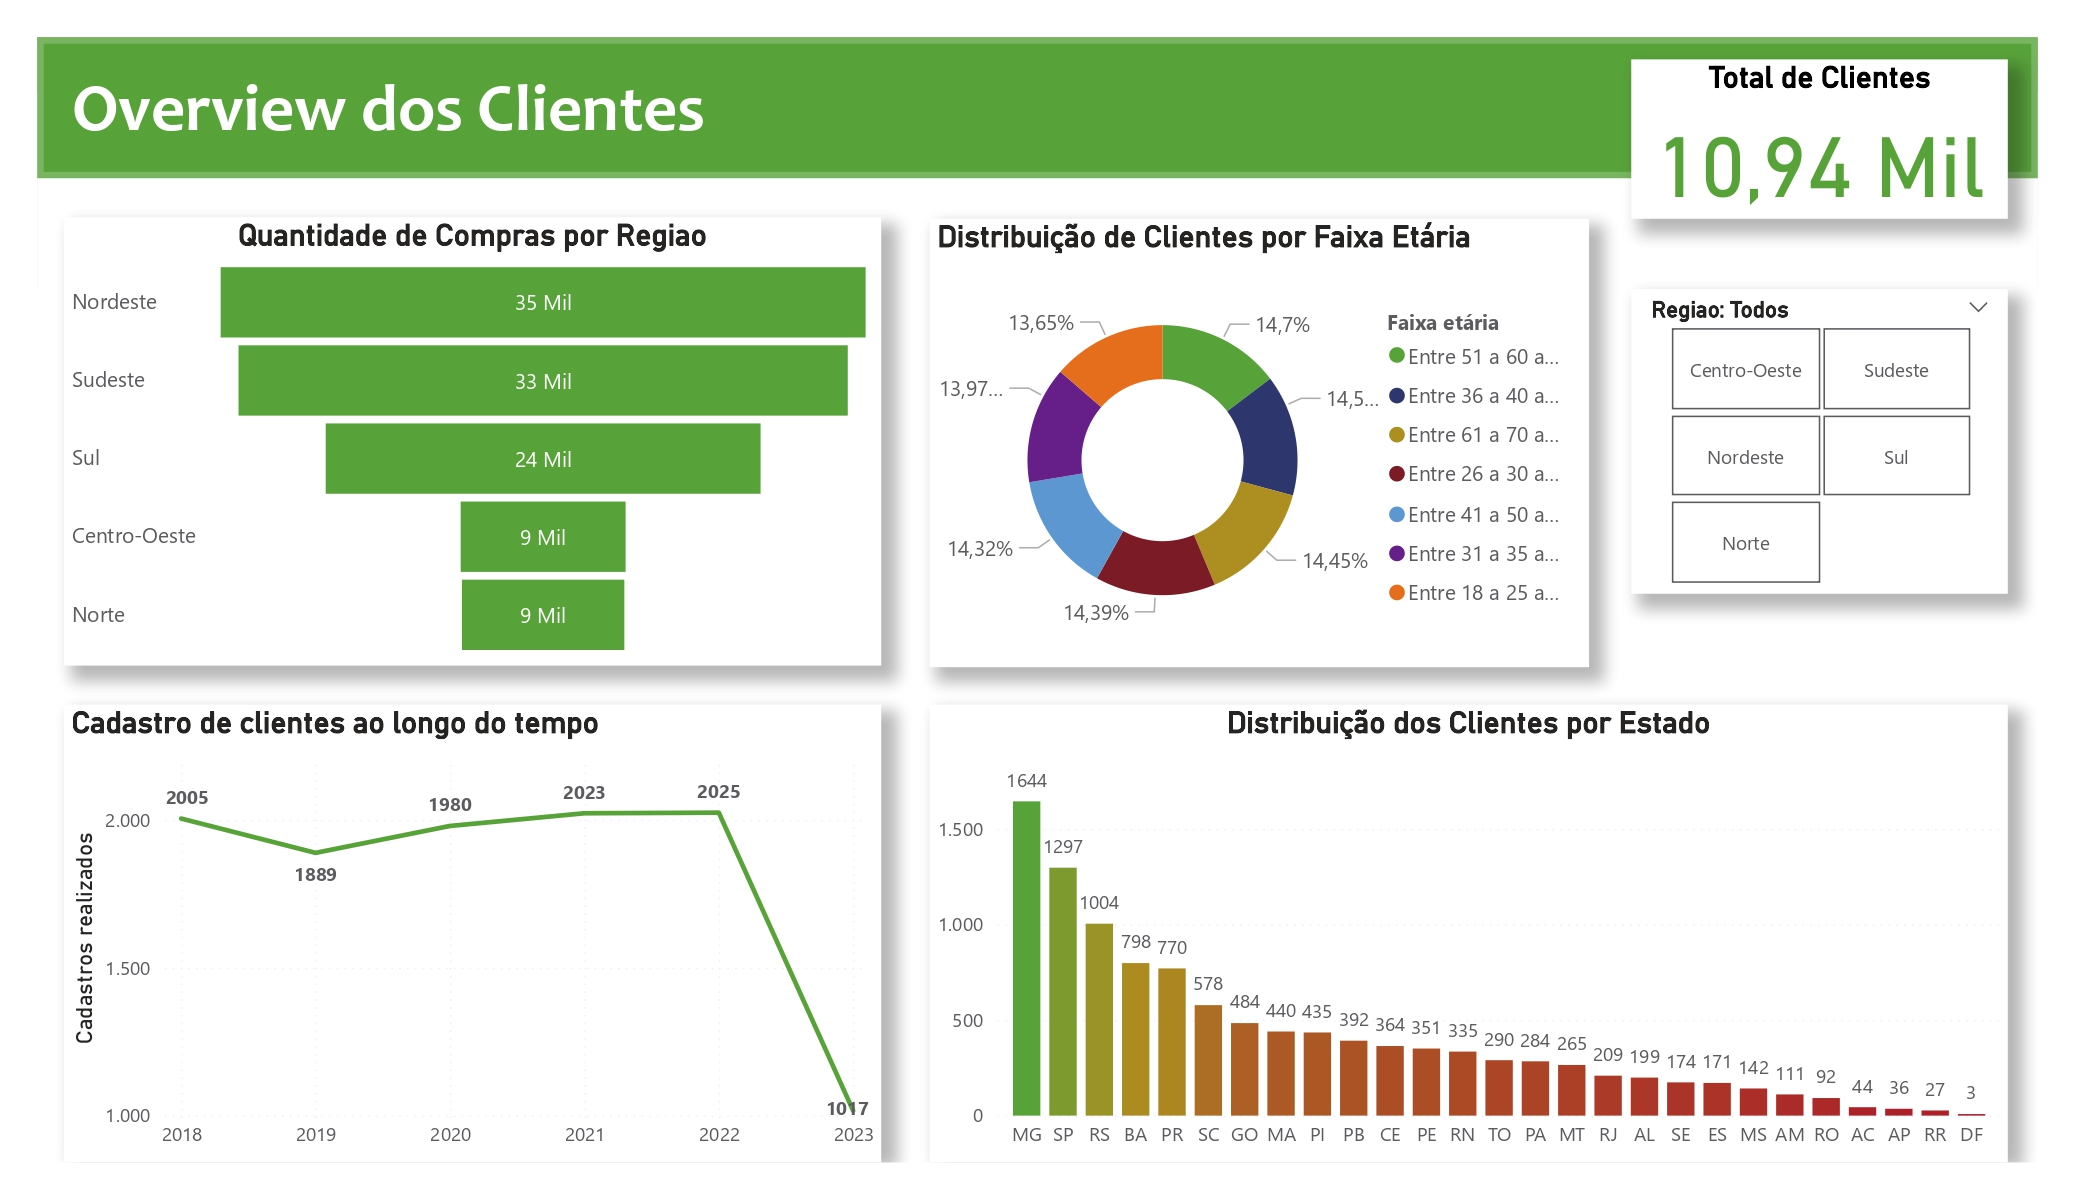

What the dashboard file says about the page in this screenshot:
{"tool":"powerbi","page":{"name":"Clientes","canvas":[1280,720],"ordinal":0},"visuals":[{"type":"shape","box":[0,0,1280,90],"z":0},{"type":"card","title":"Total de Clientes","fields":{"Values":["CountNonNull(public usuarios.cod_usuario)"]},"box":[1020,14.3,241.4,101.4],"z":1000},{"type":"donutChart","title":"Distribuição de Clientes por Faixa Etária","fields":{"Category":["public usuarios.faixa_etaria"],"Y":["CountNonNull(public usuarios.cod_usuario)"]},"box":[571.4,115.7,421.4,287.1],"z":2000},{"type":"funnel","title":"Quantidade de Compras por Regiao","fields":{"Category":["public usuarios.Regiao"],"Y":["public produtos.QuantidadeVendas"]},"box":[16.7,115,523.3,286.7],"z":3000},{"type":"lineChart","title":"Cadastro de clientes ao longo do tempo","fields":{"Category":["public usuarios.data_cadastro.Variation.Hierarquia de datas.Ano"],"Y":["CountNonNull(public usuarios.cod_usuario)"]},"box":[17.1,427.1,522.9,292.9],"z":4000},{"type":"columnChart","title":"Distribuição dos Clientes por Estado","fields":{"Y":["CountNonNull(public usuarios.cod_usuario)"],"Category":["public usuarios.estado"]},"box":[571.4,427.1,690,292.9],"z":5000},{"type":"textbox","box":[16.7,13.3,486.7,76.7],"z":6000},{"type":"slicer","fields":{"Values":["public usuarios.Regiao"]},"box":[1020,161.4,241.4,194.3],"z":7000}]}

Visuals, with their boxes in screenshot pixels (x1, y1, x2, y2):
shape: <box>38,38,2038,178</box>
"Total de Clientes" card: <box>1631,60,2008,218</box>
"Distribuição de Clientes por Faixa Etária" donutChart: <box>930,218,1589,667</box>
"Quantidade de Compras por Regiao" funnel: <box>64,217,881,665</box>
"Cadastro de clientes ao longo do tempo" lineChart: <box>64,705,881,1162</box>
"Distribuição dos Clientes por Estado" columnChart: <box>930,705,2008,1162</box>
textbox: <box>64,58,824,178</box>
slicer - public usuarios.Regiao: <box>1631,290,2008,593</box>
